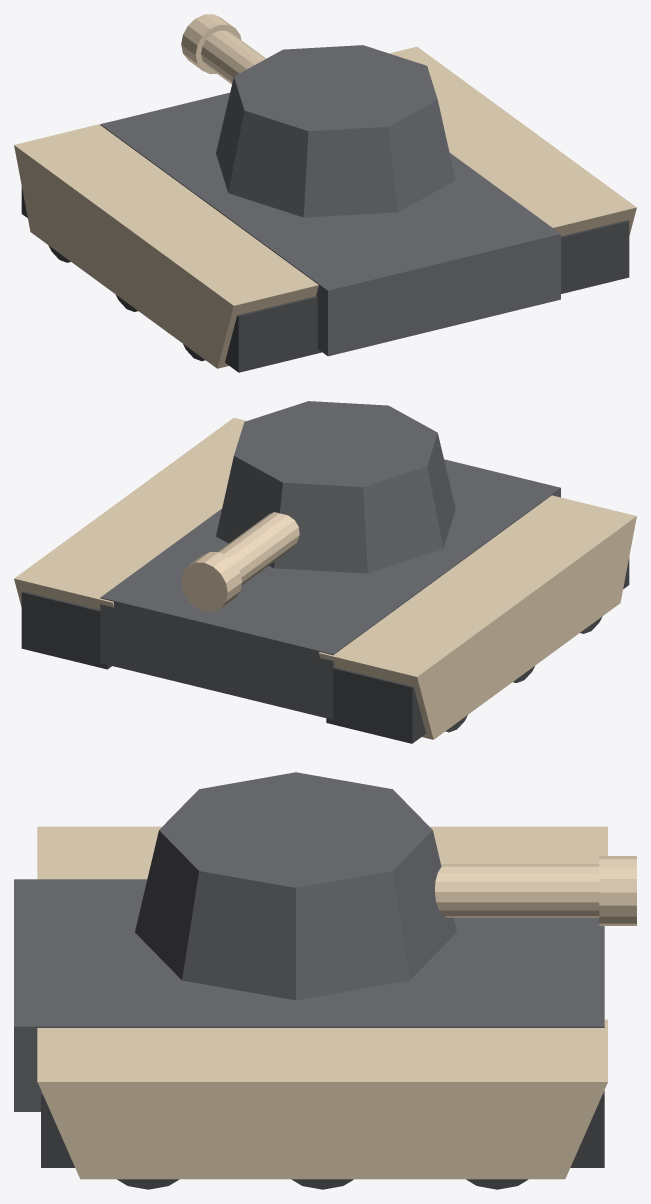
File: tank.glb
The picture shows the model from 3 angles, top to bottom: view 1: azimuth 30°, elevation 25°; view 2: azimuth 150°, elevation 25°; view 3: azimuth 270°, elevation 25°; orthographic projection. The views are drawn at different scales.
Visible parts, largest first — view 1: Chassis_Deck, Armor_Pod_L, Turret_Main, Armor_Pod_R, Tread_Back_L, Tread_Back_R, Turret_Barrel, Turret_Muzzle; view 2: Chassis_Deck, Armor_Pod_L, Turret_Main, Armor_Pod_R, Tread_Back_L, Tread_Back_R, Turret_Barrel, Turret_Muzzle; view 3: Armor_Pod_R, Turret_Main, Chassis_Deck, Armor_Pod_L, Turret_Barrel, Tread_Back_R, Turret_Muzzle.
Boxes of the visible parts, <box> form: Chassis_Deck: <box>100,92,560,356</box>; Armor_Pod_L: <box>14,121,318,368</box>; Turret_Main: <box>216,45,455,217</box>; Armor_Pod_R: <box>389,46,636,236</box>; Tread_Back_L: <box>21,186,321,372</box>; Tread_Back_R: <box>561,220,629,293</box>; Turret_Barrel: <box>201,30,266,84</box>; Turret_Muzzle: <box>181,14,241,74</box>; Chassis_Deck: <box>100,459,560,719</box>; Armor_Pod_L: <box>318,495,636,739</box>; Turret_Main: <box>216,401,455,573</box>; Armor_Pod_R: <box>14,418,246,609</box>; Tread_Back_L: <box>326,557,629,743</box>; Tread_Back_R: <box>21,591,111,669</box>; Turret_Barrel: <box>217,512,299,584</box>; Turret_Muzzle: <box>181,552,242,611</box>; Armor_Pod_R: <box>37,1019,607,1179</box>; Turret_Main: <box>135,772,456,1000</box>; Chassis_Deck: <box>14,879,604,1111</box>; Armor_Pod_L: <box>37,826,607,879</box>; Turret_Barrel: <box>435,864,599,917</box>; Tread_Back_R: <box>41,1090,604,1167</box>; Turret_Muzzle: <box>599,856,636,925</box>.
Bounding box in the file's own units: 2.25 × 0.96 × 2.32.
